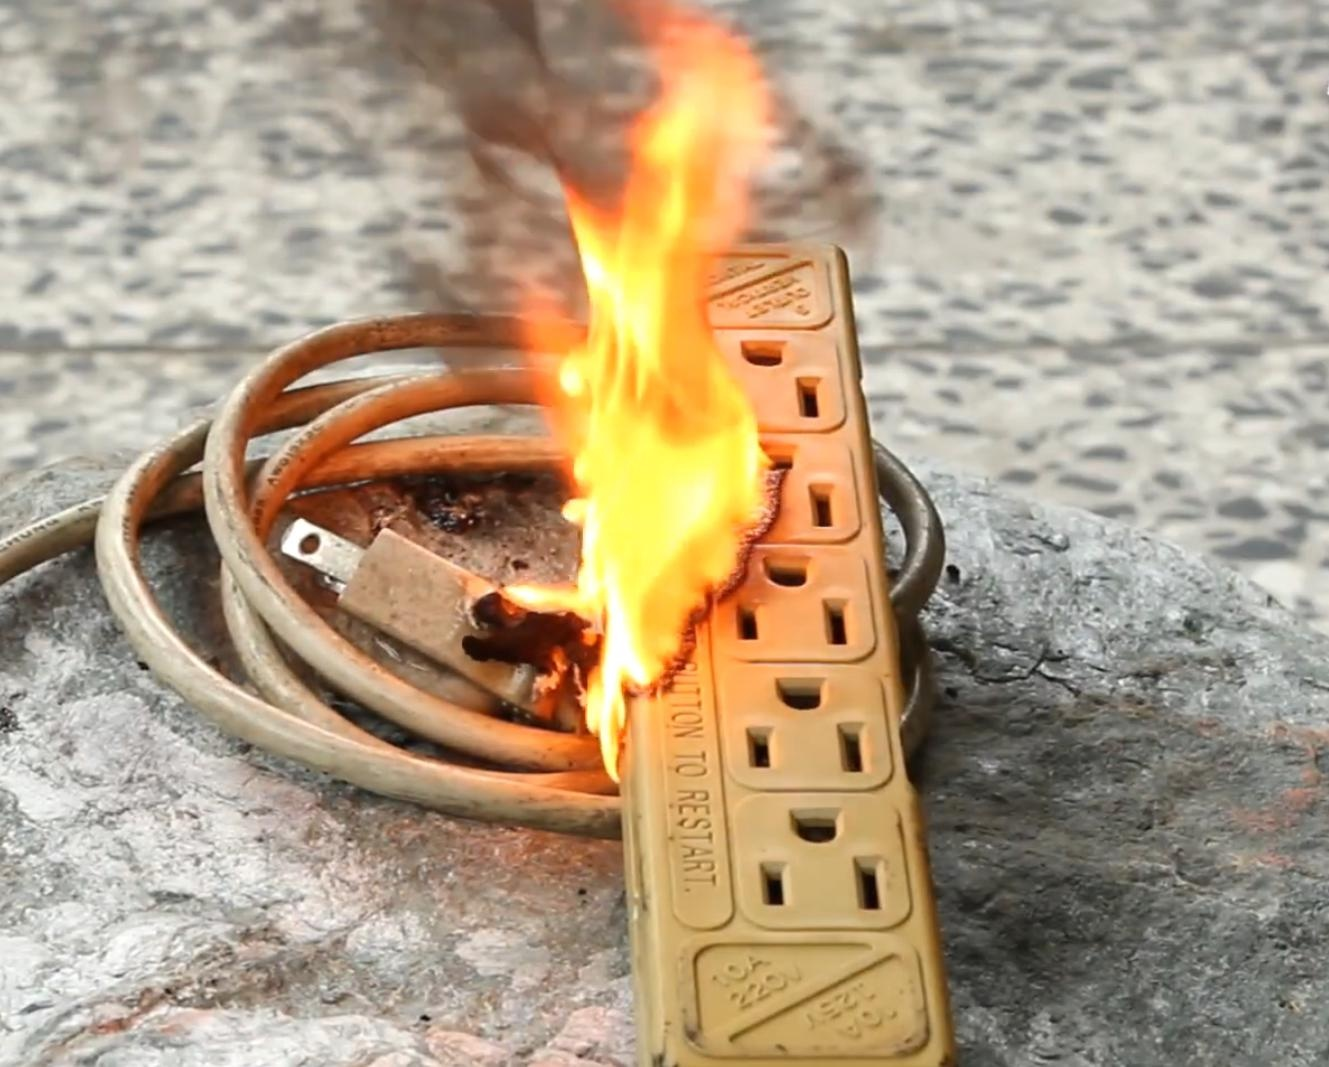fire: (501, 14, 795, 792)
